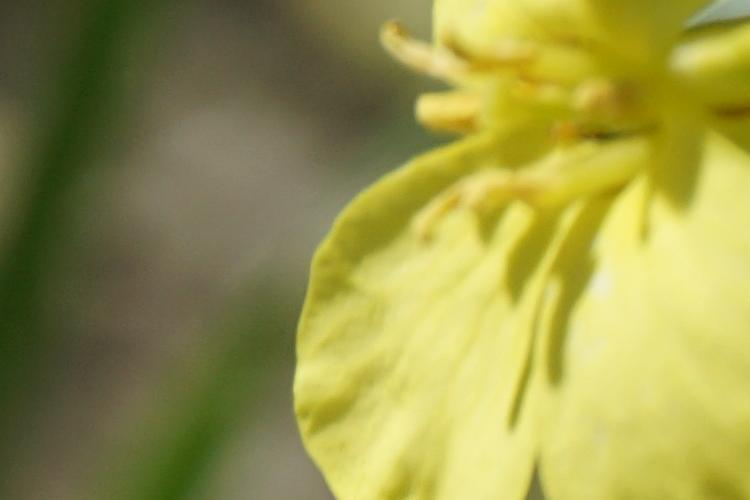yellow: (311, 18, 747, 500)
